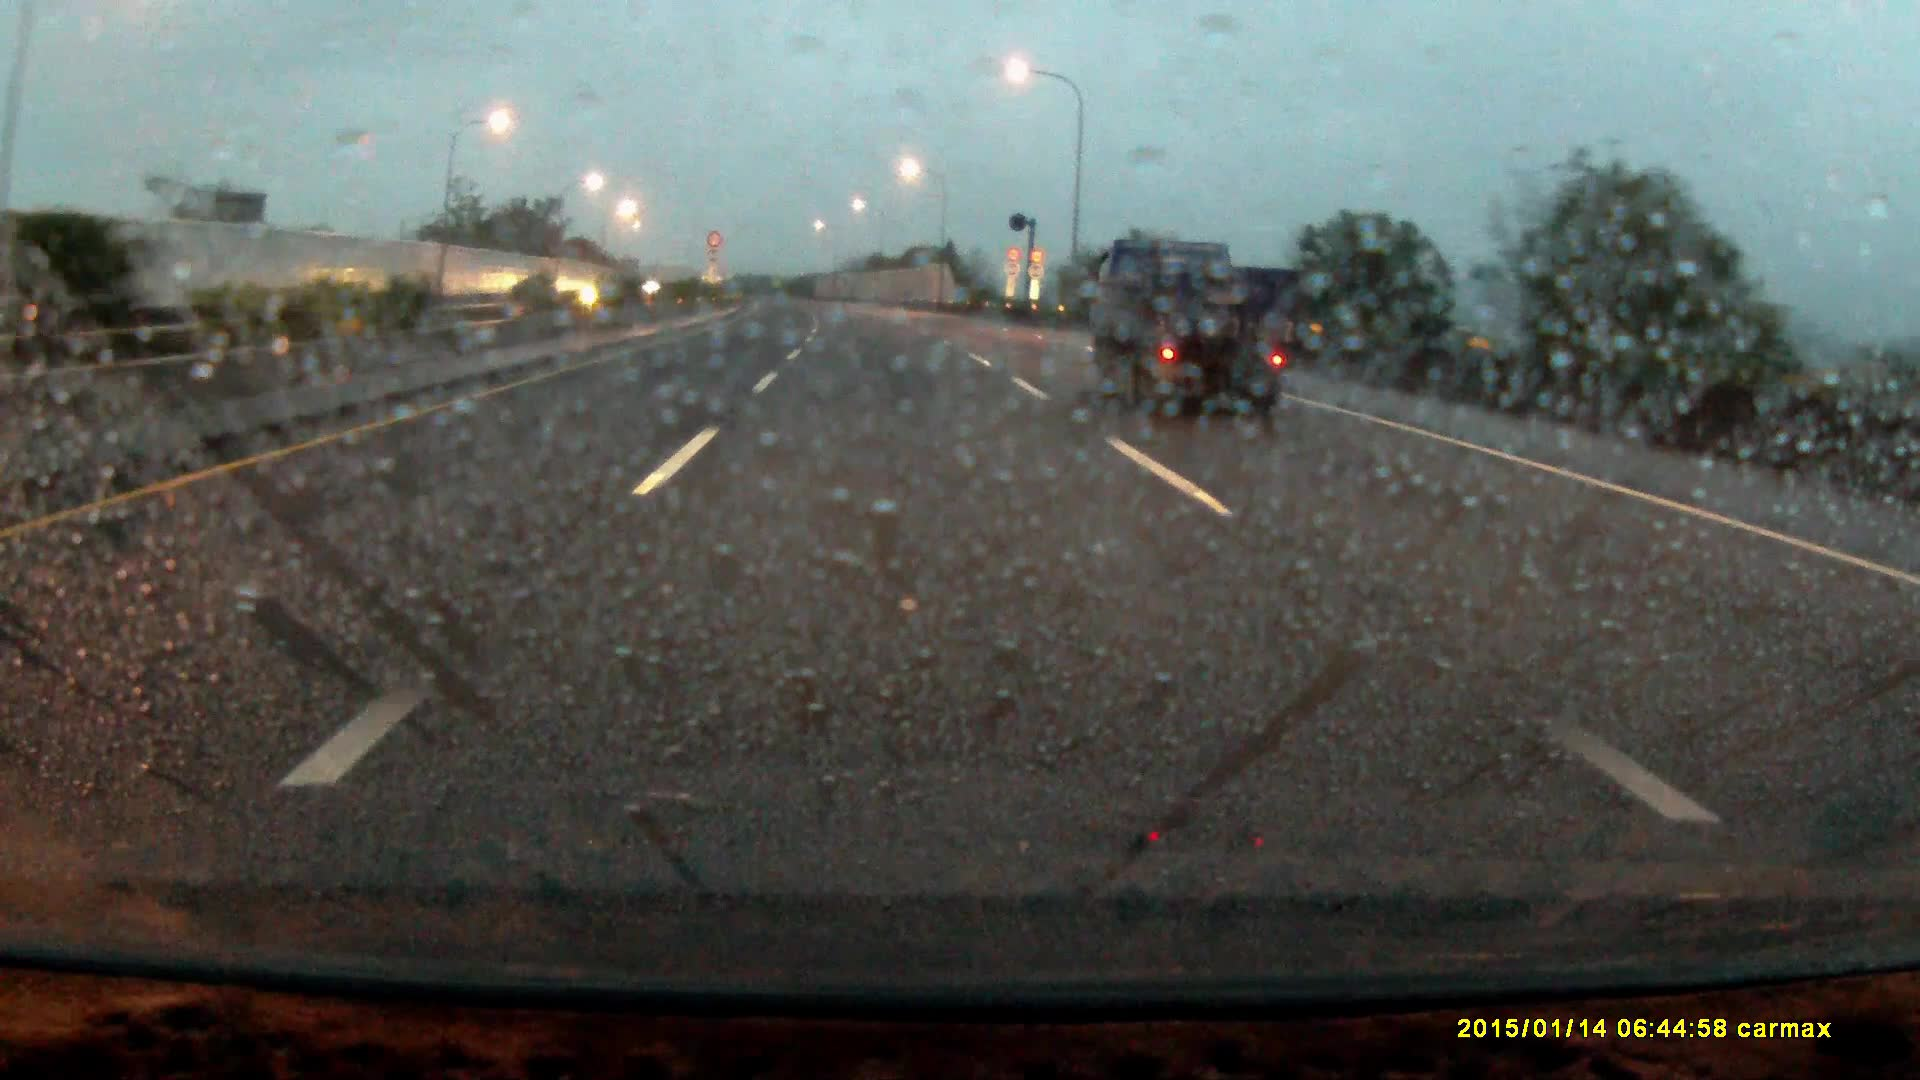vehicle: (1088, 243, 1294, 417)
